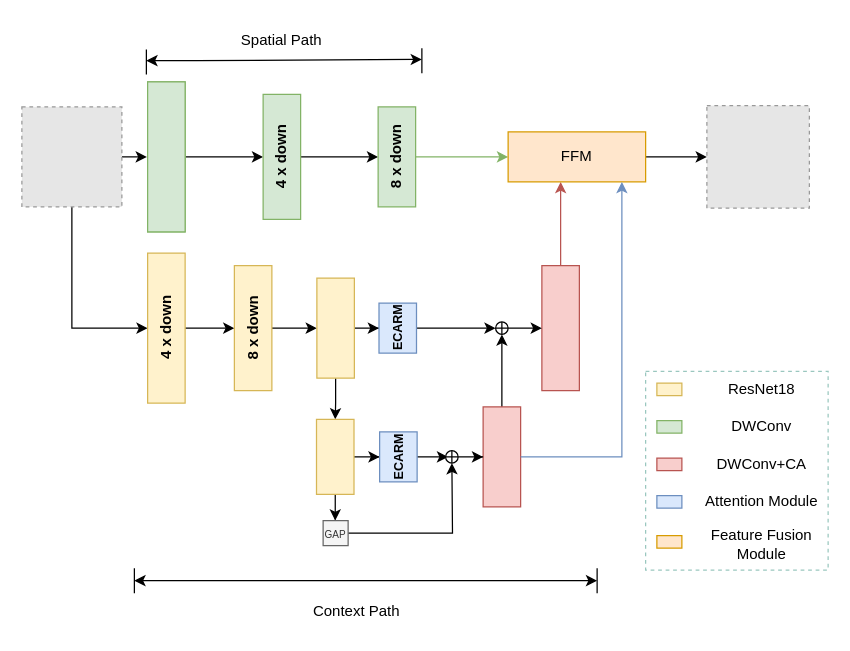
This 850x651 diagram has some shape labels left out. Grey dashed boxes stand in for pictures. Each missing label, with the centre of its shape:
"16 x down" goes at point 335,327.
"16 x up" goes at point 501,456.
"2 x down" goes at point 165,156.
"32 x down" goes at point 334,456.
"8 x up" goes at point 560,327.
